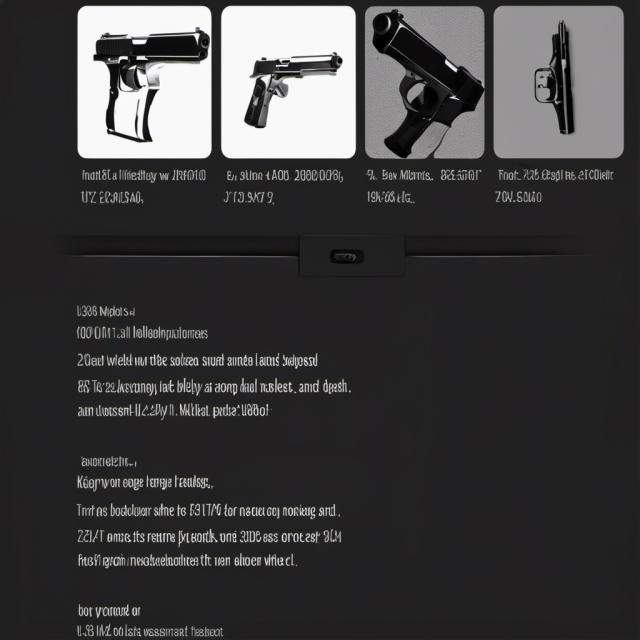gun: (369, 4, 490, 163), (85, 28, 209, 140), (234, 47, 345, 128)
